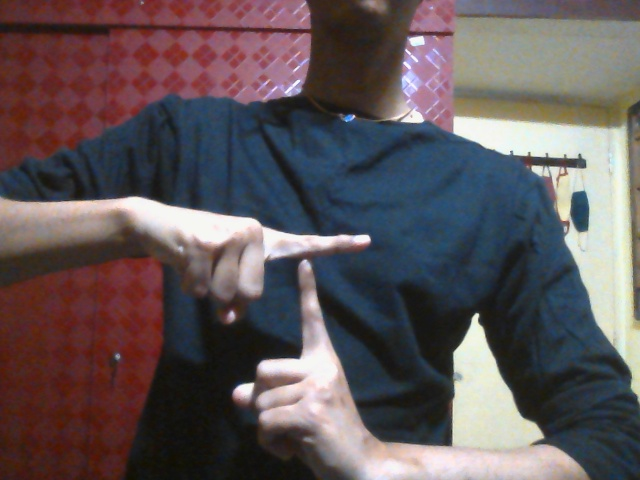T: (166, 207, 372, 472)
